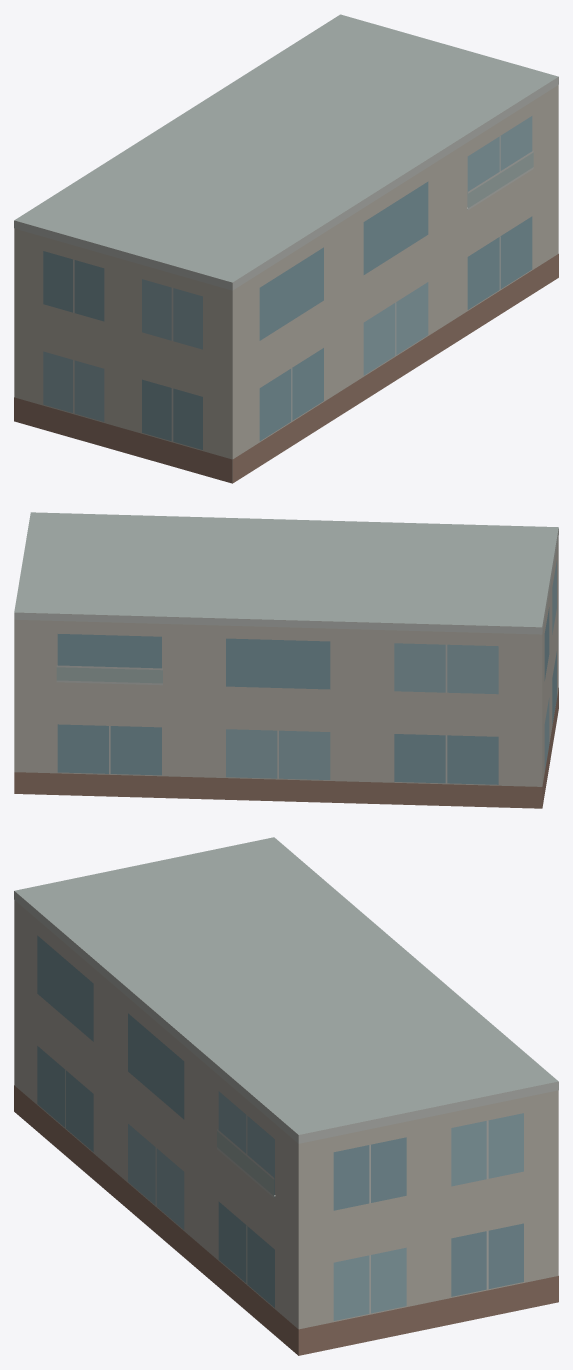
File: survey-upis-32728525.glb
3 renders of one model, top to bottom at view 1: azimuth 30°, elevation 25°; view 2: azimuth 150°, elevation 25°; view 3: azimuth 270°, elevation 25°, orthographic. The views are drawn at different scales.
Visible parts, largest first — view 1: survey-upis-32728525.tmp; view 2: survey-upis-32728525.tmp; view 3: survey-upis-32728525.tmp.
Boxes of the visible parts, x1,y1,x2,y2 form: survey-upis-32728525.tmp: [14, 14, 558, 483]; survey-upis-32728525.tmp: [14, 512, 558, 808]; survey-upis-32728525.tmp: [14, 837, 558, 1355].
Bounding box in the file's own units: 17.67 × 6.1 × 13.65.
